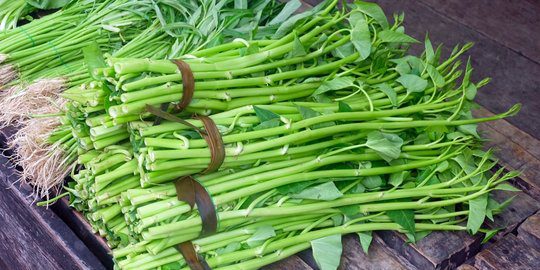Kangkung: (40, 9, 505, 270)
